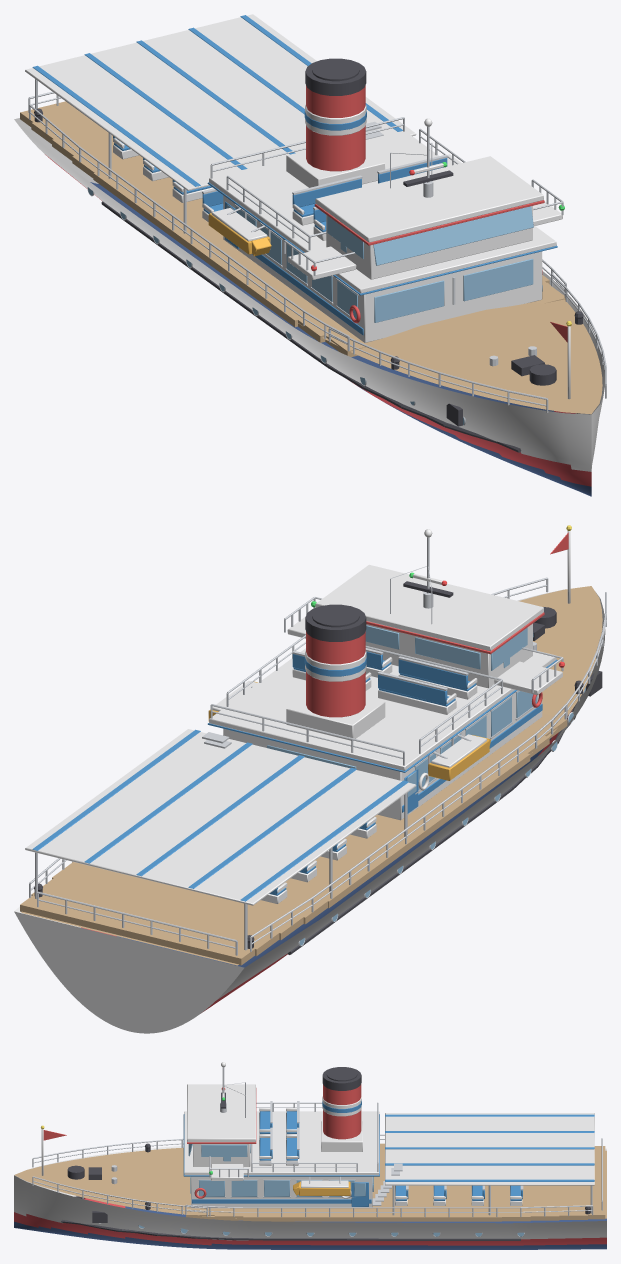
The model's file is feri_blender.fbx.
3 views of the same model, one above another, from view 1: azimuth 30°, elevation 25°; view 2: azimuth 150°, elevation 25°; view 3: azimuth 270°, elevation 25° (orthographic). The views are drawn at different scales.
Visible parts, largest first — view 1: Putih, Geladak, Badan, Kaca, Besi, Biru, Hitam, Merah, Bawah, Jok, Garis, Oranye; view 2: Putih, Geladak, Badan, Besi, Biru, Kaca, Merah, Hitam, Jok, Bawah, Oranye; view 3: Putih, Geladak, Badan, Besi, Biru, Bawah, Garis, Hitam, Kaca, Merah, Jok, Oranye.
Part boxes in pixels (x1=…): Putih: x1=25, y1=14, x2=570, y2=399; Geladak: x1=20, y1=101, x2=602, y2=414; Badan: x1=14, y1=118, x2=604, y2=471; Kaca: x1=88, y1=187, x2=533, y2=424; Besi: x1=28, y1=79, x2=606, y2=425; Biru: x1=32, y1=15, x2=557, y2=335; Hitam: x1=34, y1=58, x2=583, y2=452; Merah: x1=306, y1=85, x2=567, y2=342; Bawah: x1=90, y1=182, x2=591, y2=496; Jok: x1=113, y1=136, x2=447, y2=231; Garis: x1=45, y1=154, x2=591, y2=486; Oranye: x1=208, y1=213, x2=271, y2=256; Putih: x1=25, y1=529, x2=570, y2=905; Geladak: x1=20, y1=586, x2=602, y2=965; Badan: x1=14, y1=590, x2=605, y2=1033; Besi: x1=29, y1=537, x2=606, y2=955; Biru: x1=32, y1=657, x2=557, y2=901; Kaca: x1=267, y1=625, x2=585, y2=945; Merah: x1=306, y1=532, x2=568, y2=717; Hitam: x1=34, y1=581, x2=602, y2=954; Jok: x1=269, y1=651, x2=476, y2=895; Bawah: x1=117, y1=737, x2=551, y2=967; Oranye: x1=208, y1=681, x2=490, y2=780; Putih: x1=41, y1=1062, x2=594, y2=1208; Geladak: x1=14, y1=1143, x2=606, y2=1221; Badan: x1=14, y1=1146, x2=606, y2=1240; Besi: x1=32, y1=1067, x2=602, y2=1236; Biru: x1=183, y1=1101, x2=594, y2=1206; Bawah: x1=14, y1=1206, x2=606, y2=1249; Garis: x1=14, y1=1198, x2=606, y2=1245; Hitam: x1=61, y1=1067, x2=590, y2=1240; Kaca: x1=138, y1=1144, x2=524, y2=1236; Merah: x1=43, y1=1084, x2=361, y2=1198; Jok: x1=259, y1=1111, x2=522, y2=1200; Oranye: x1=293, y1=1181, x2=350, y2=1195.
Bounding box in the file's own units: 19.64 × 20.96 × 62.
